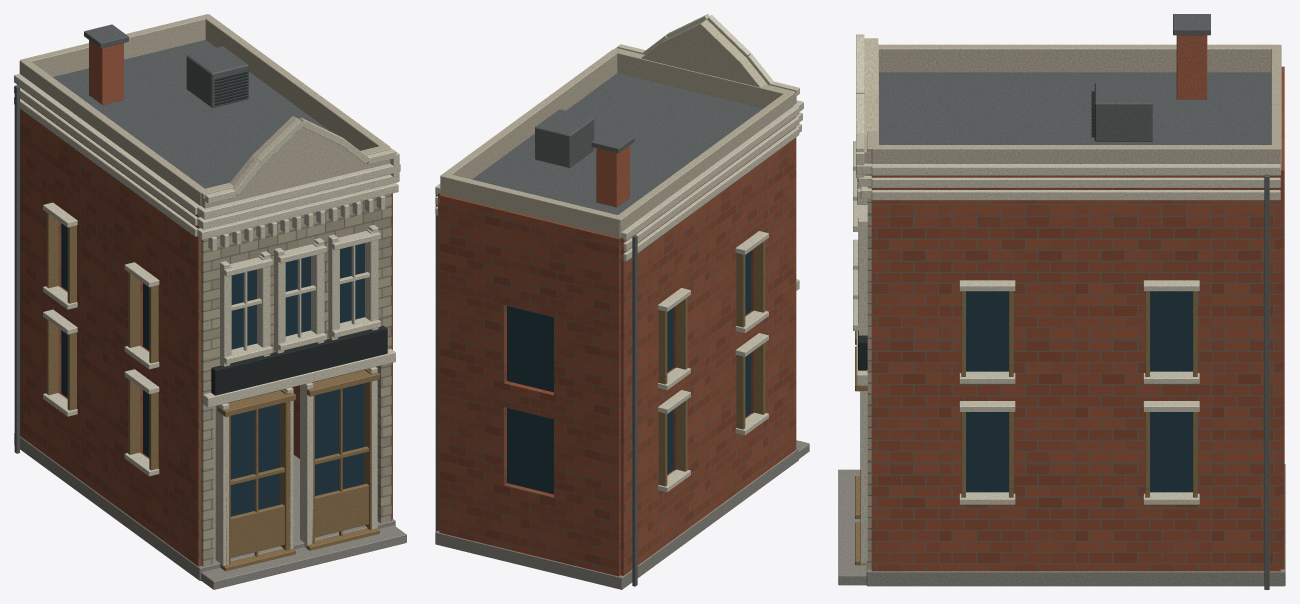
File: CLSTGA16_lod1.glb
3 renders of one model, left to right at view 1: azimuth 30°, elevation 25°; view 2: azimuth 150°, elevation 25°; view 3: azimuth 270°, elevation 25°, orthographic. The views are drawn at different scales.
Visible parts, largest first — view 1: CLSTGA16_LOD1; view 2: CLSTGA16_LOD1; view 3: CLSTGA16_LOD1.
Part boxes in pixels (x1,y1,x2,y2): CLSTGA16_LOD1: [14, 14, 406, 589]; CLSTGA16_LOD1: [435, 14, 809, 589]; CLSTGA16_LOD1: [838, 14, 1285, 589].
Bounding box in the file's own units: 4.11 × 8.05 × 6.57.
Materials: 11 (9 with a texture image).
